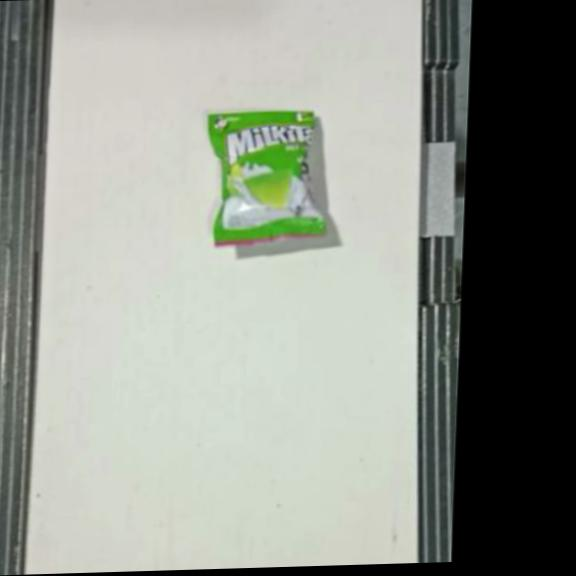Plastik: (204, 108, 333, 245)
